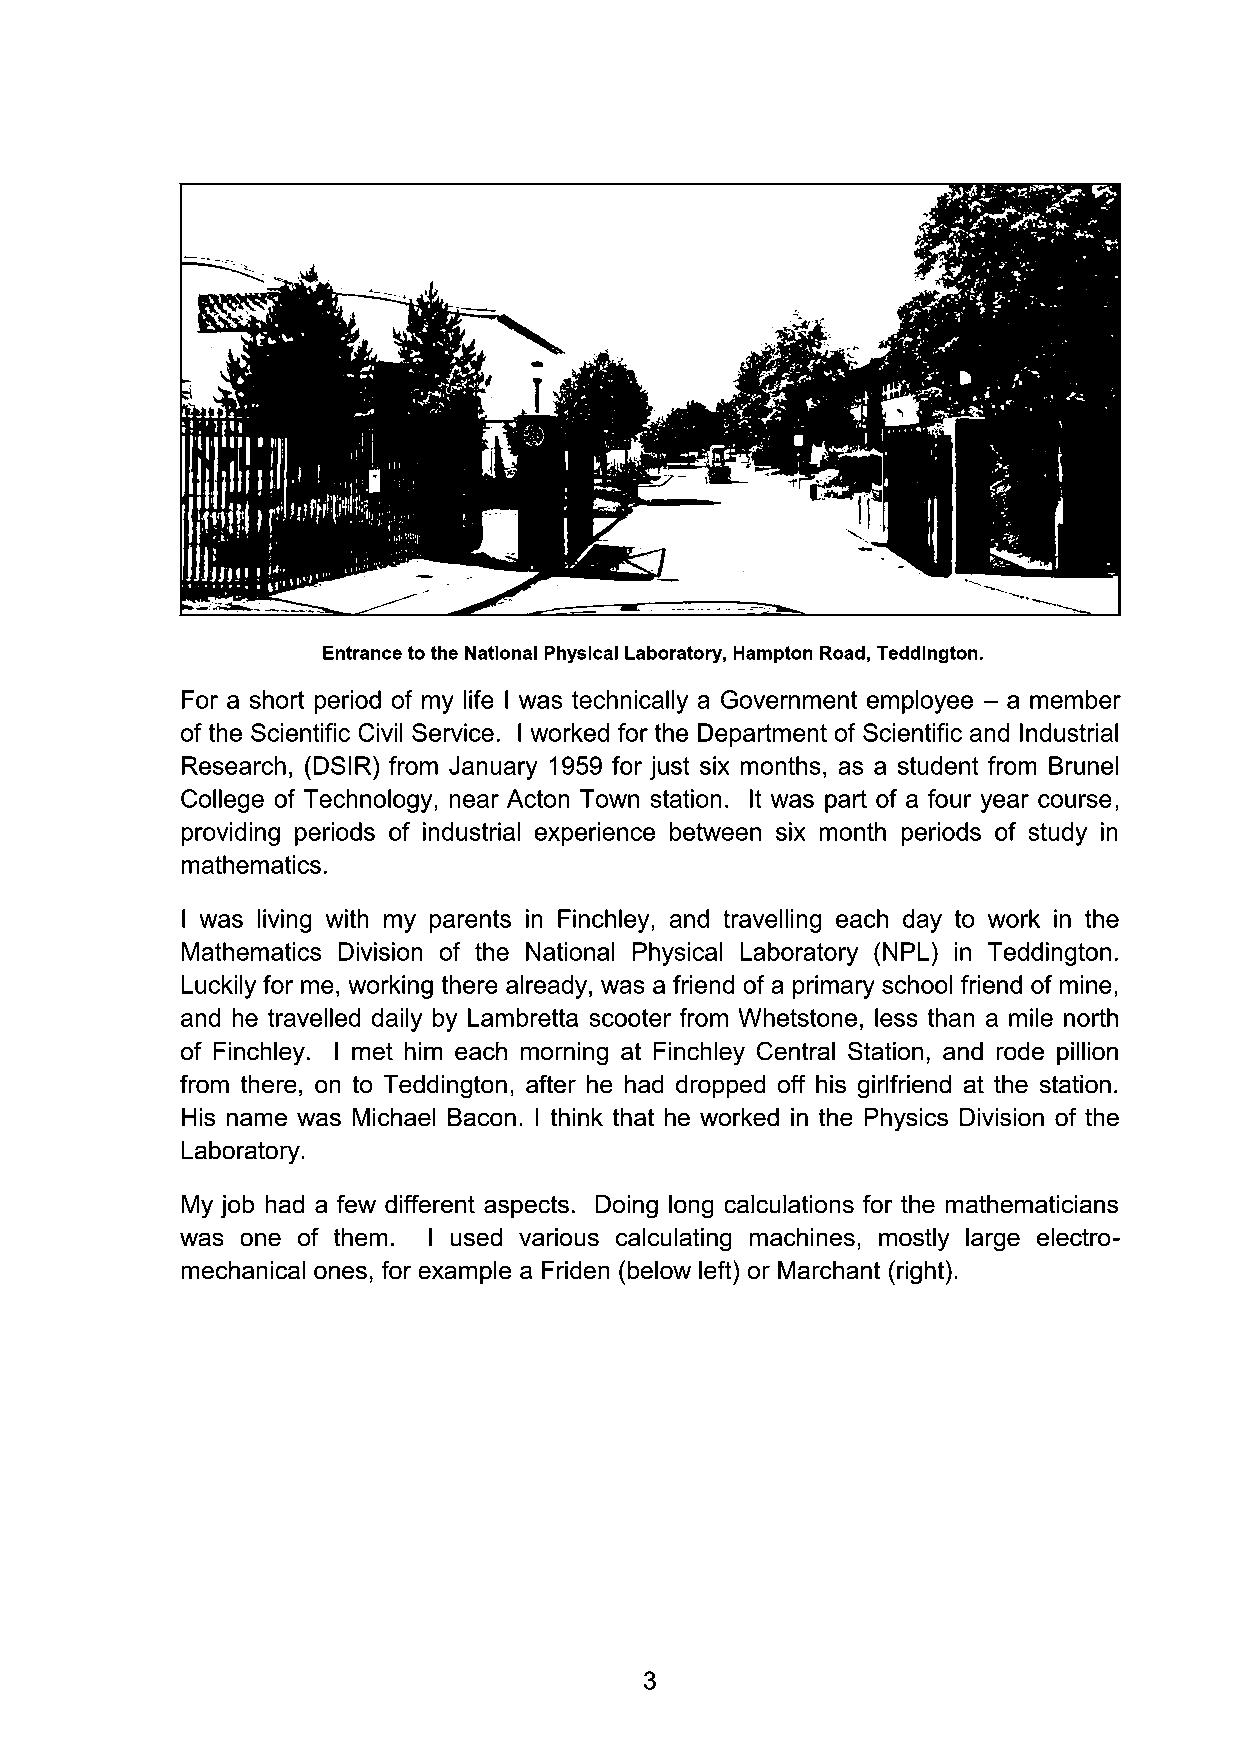content: (166, 178, 1129, 1287)
content_pagenumber: (629, 1661, 666, 1694)
